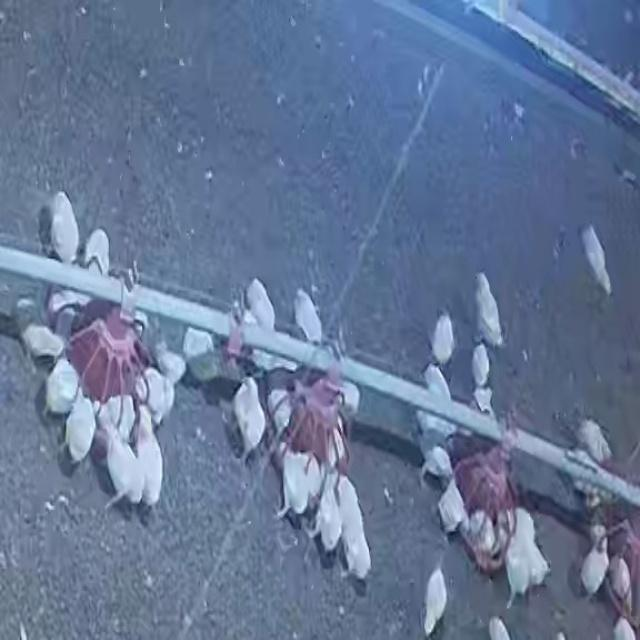chicken: (91, 407, 144, 511), (337, 477, 371, 582), (510, 511, 553, 582), (232, 377, 268, 459), (578, 225, 616, 302), (138, 408, 165, 511), (471, 269, 506, 348), (274, 452, 312, 520), (65, 393, 97, 465), (411, 430, 453, 484), (45, 355, 82, 416), (20, 322, 68, 368), (152, 336, 189, 393), (99, 389, 138, 443), (312, 475, 340, 549), (49, 194, 79, 263), (582, 525, 609, 601), (139, 365, 173, 423), (423, 566, 448, 640), (566, 449, 610, 491), (607, 552, 636, 615), (292, 288, 324, 345), (245, 278, 276, 336), (267, 380, 295, 442), (466, 511, 504, 556), (578, 420, 615, 466), (506, 537, 531, 602), (425, 312, 456, 364), (437, 482, 465, 535), (413, 403, 460, 434), (420, 366, 454, 407), (82, 228, 111, 276), (326, 416, 349, 470), (182, 327, 216, 362), (254, 349, 297, 376), (471, 345, 493, 389), (338, 378, 362, 418), (586, 519, 608, 550), (488, 616, 513, 640)
